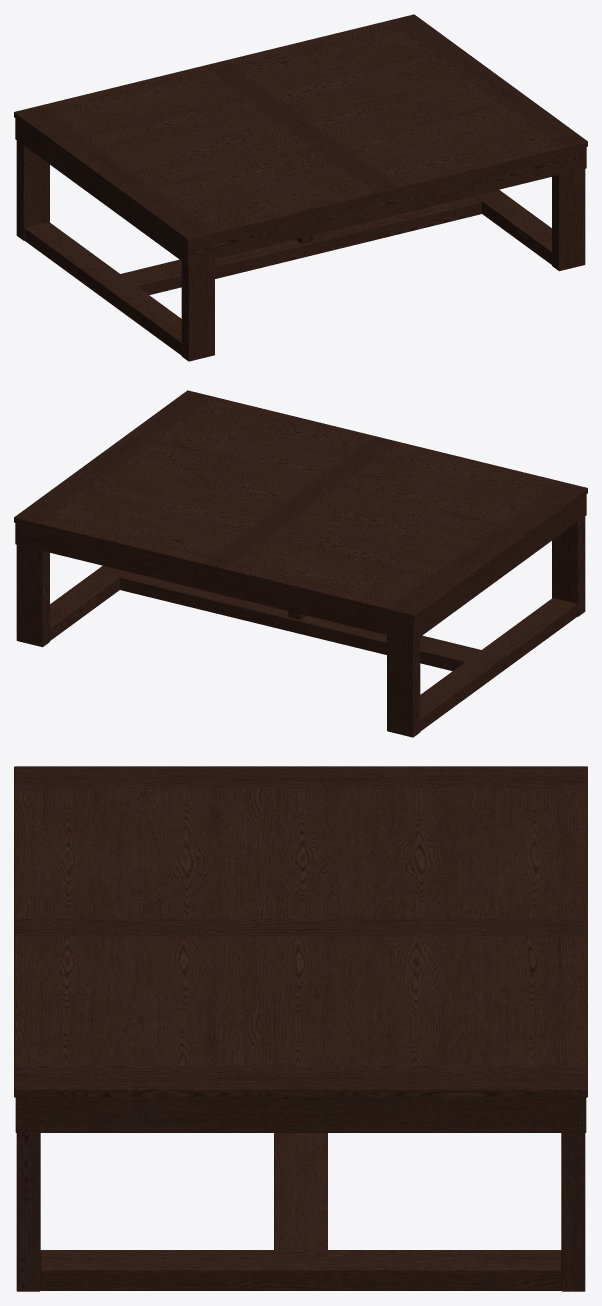
The picture shows the model from 3 angles, top to bottom: view 1: azimuth 30°, elevation 25°; view 2: azimuth 150°, elevation 25°; view 3: azimuth 270°, elevation 25°; orthographic projection. The views are drawn at different scales.
Parts seen in each view (by area): view 1: T481-1; view 2: T481-1; view 3: T481-1.
Part boxes in pixels (box(x1,y1,x2,y2)): T481-1: box(14, 14, 587, 361); T481-1: box(14, 390, 587, 737); T481-1: box(14, 766, 587, 1291).
Size of the model in its own units: 1.43 by 0.4224 by 1.07.
Materials: 1 (1 with a texture image).
